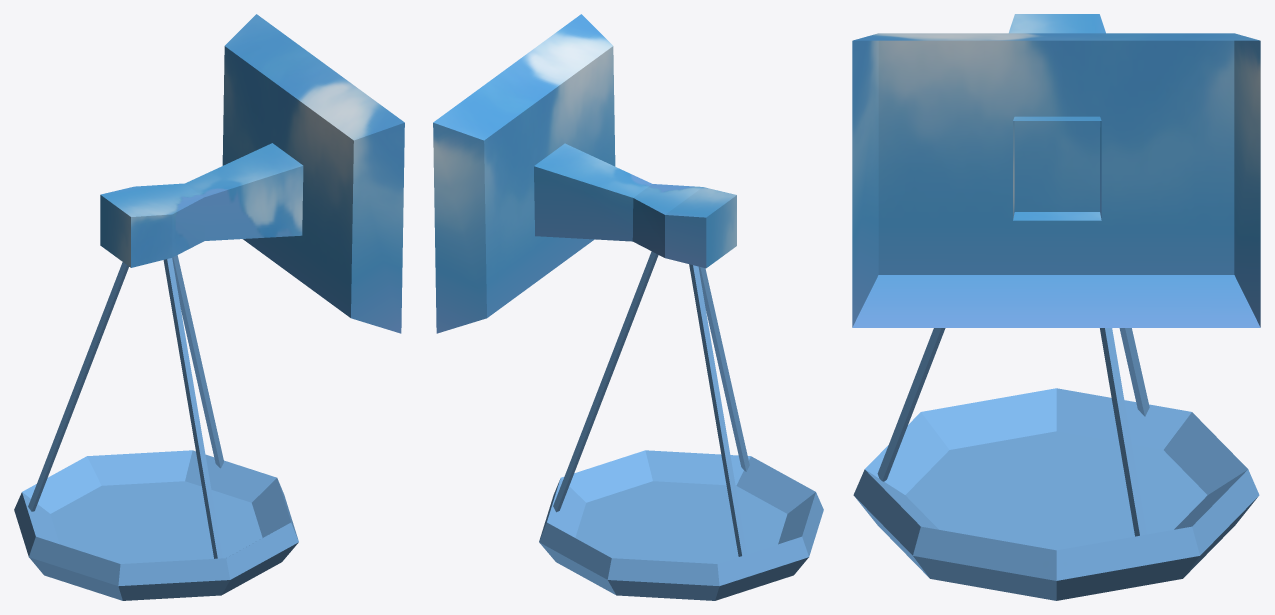
The model's file is ludeng.FBX.
3 views of the same model, side by side, from view 1: azimuth 30°, elevation 25°; view 2: azimuth 150°, elevation 25°; view 3: azimuth 270°, elevation 25° (orthographic). The views are drawn at different scales.
Visible parts, largest first — view 1: ludeng; view 2: ludeng; view 3: ludeng.
Boxes of the visible parts, box(x1,y1,x2,y2) form: ludeng: box(14, 14, 404, 600); ludeng: box(433, 14, 823, 600); ludeng: box(852, 14, 1260, 600).
Size of the model in its own units: 133 by 184 by 113.
